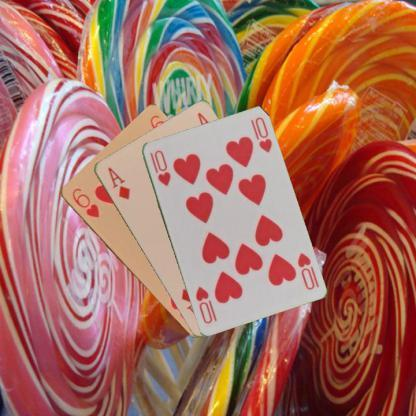10h: (148, 148, 172, 188), (294, 249, 316, 292)
6h: (68, 184, 100, 219)
Ad: (104, 164, 132, 201)
